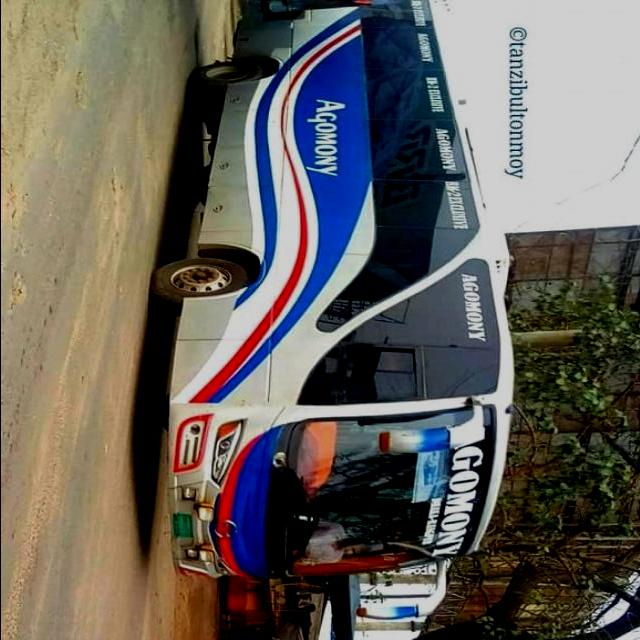bus: (148, 3, 516, 621)
